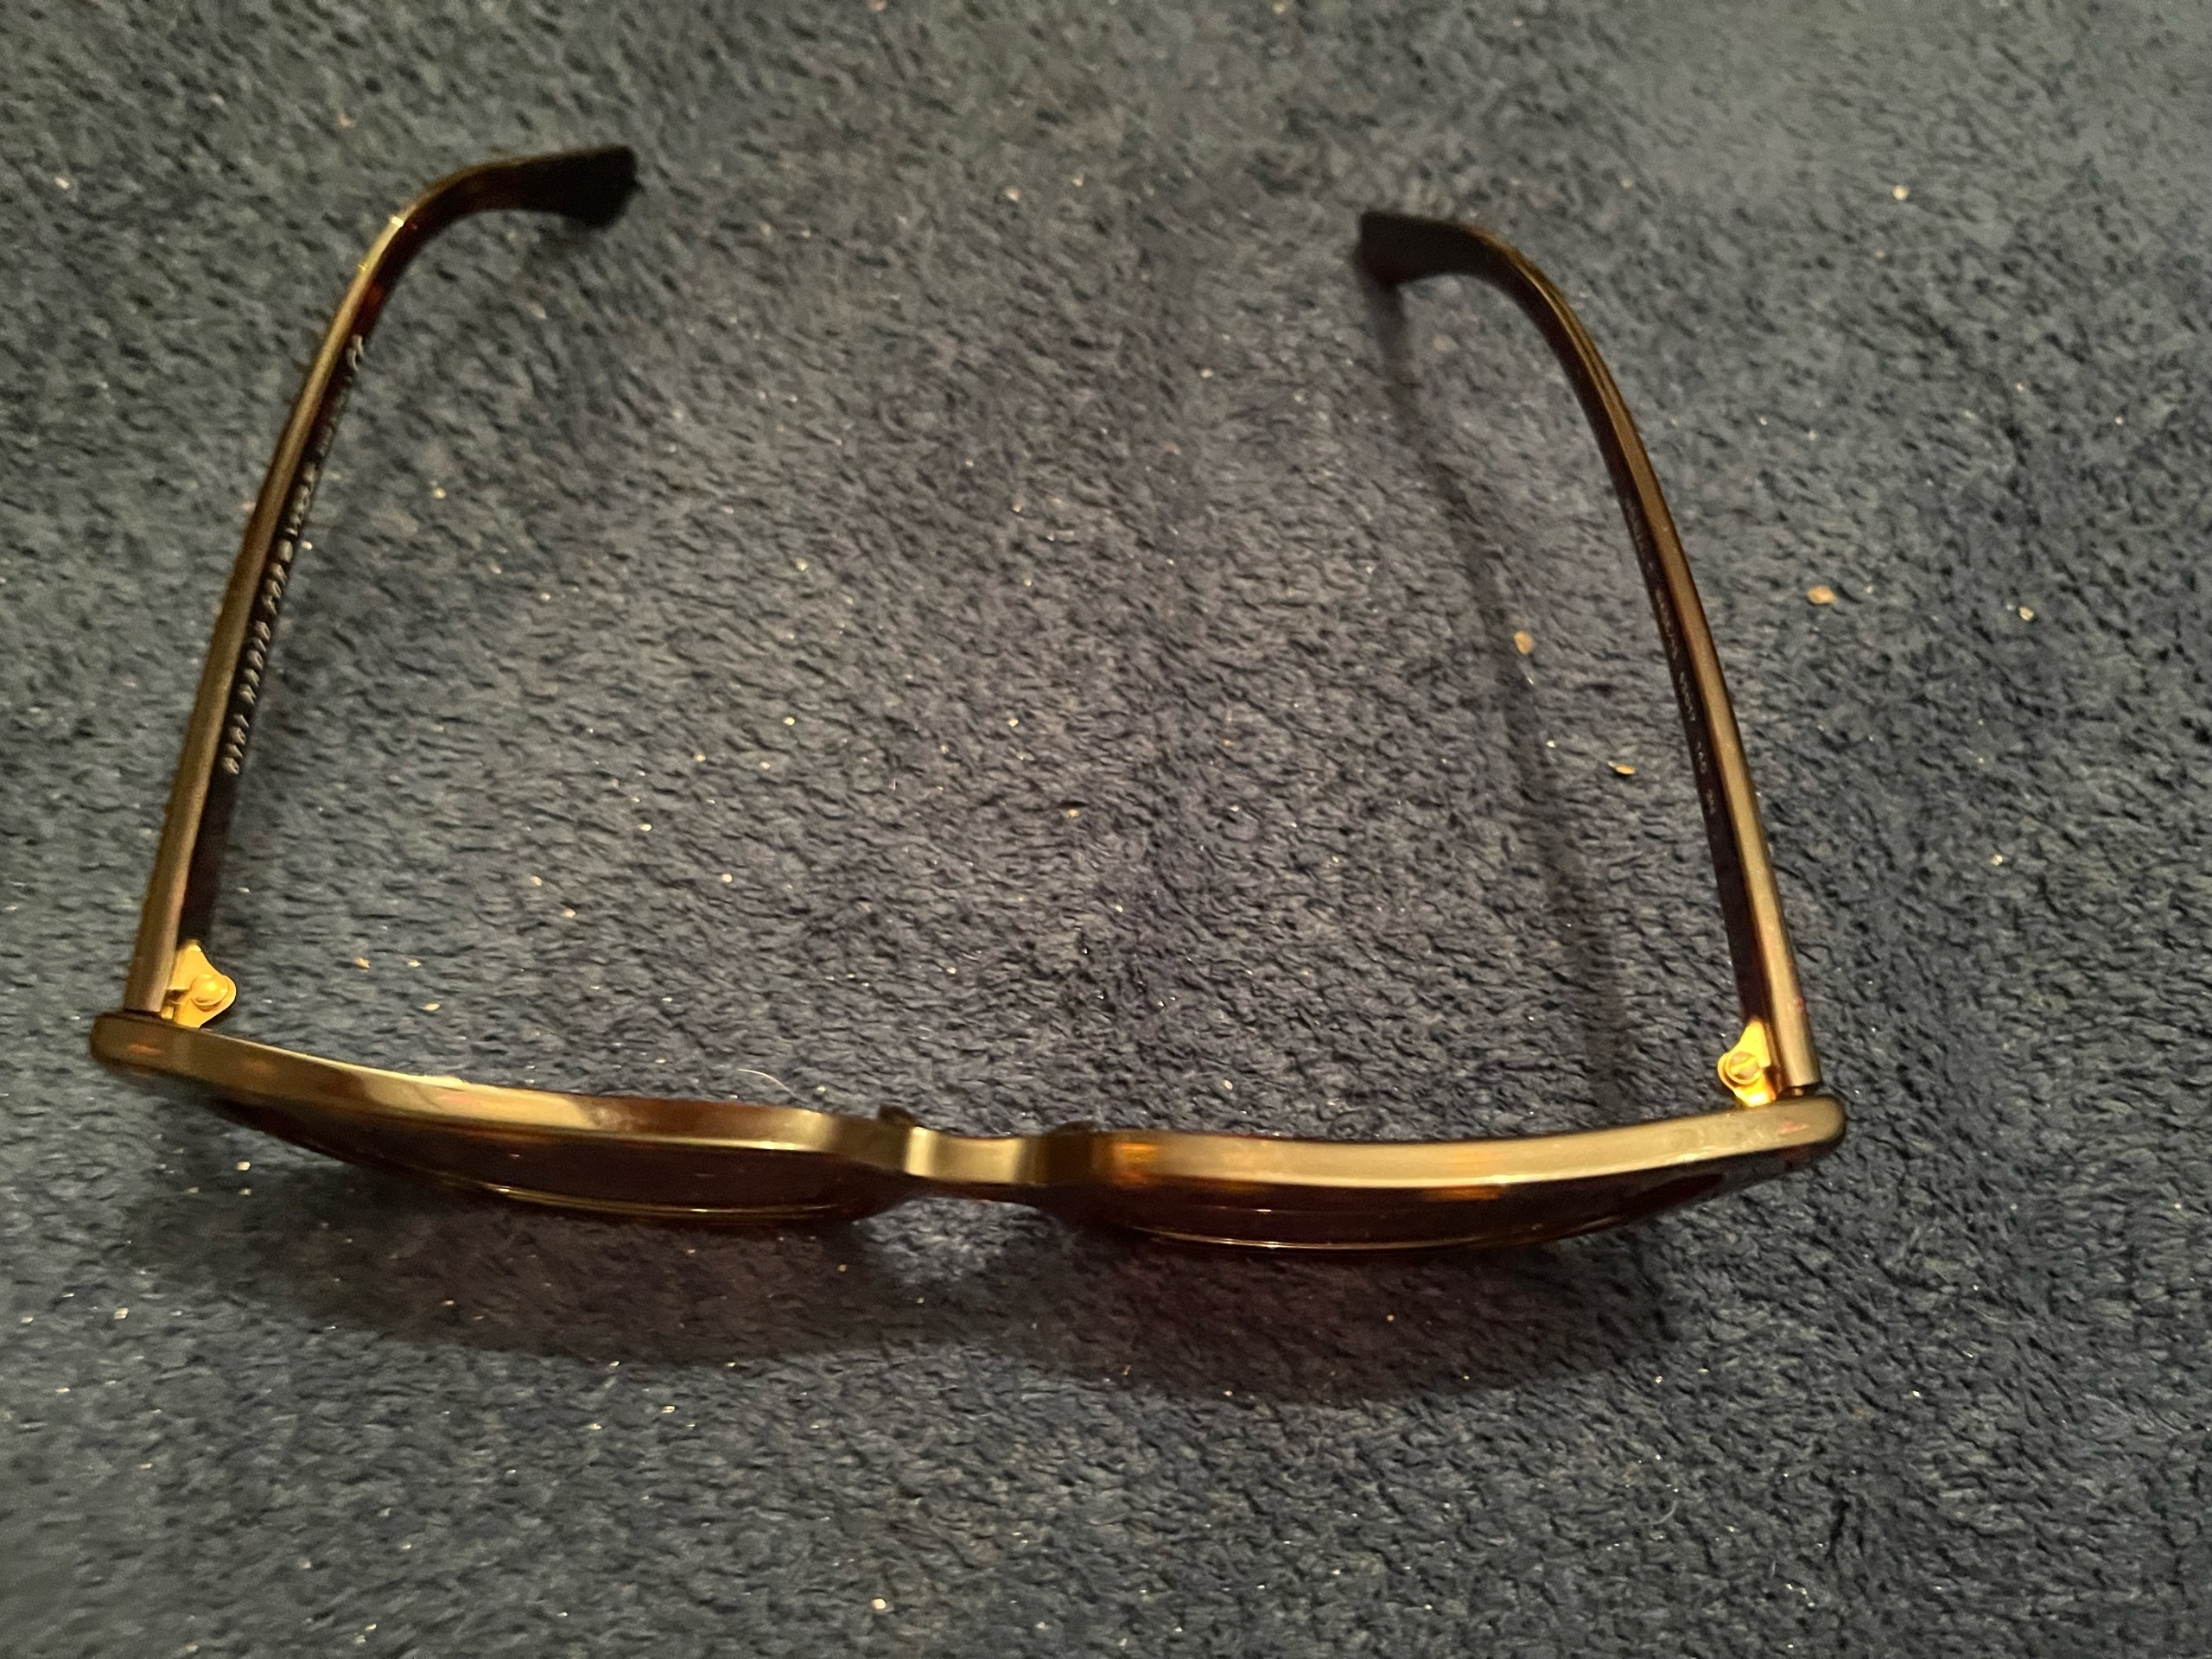glasses: (96, 148, 1843, 1251)
